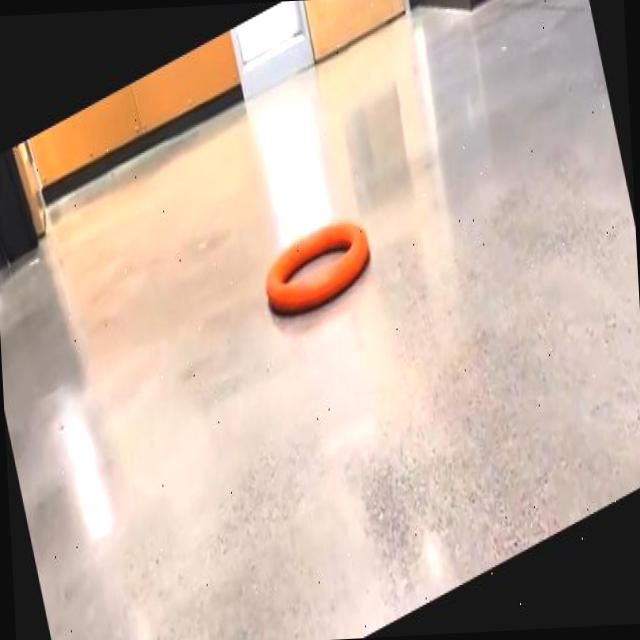note: (265, 219, 368, 313)
